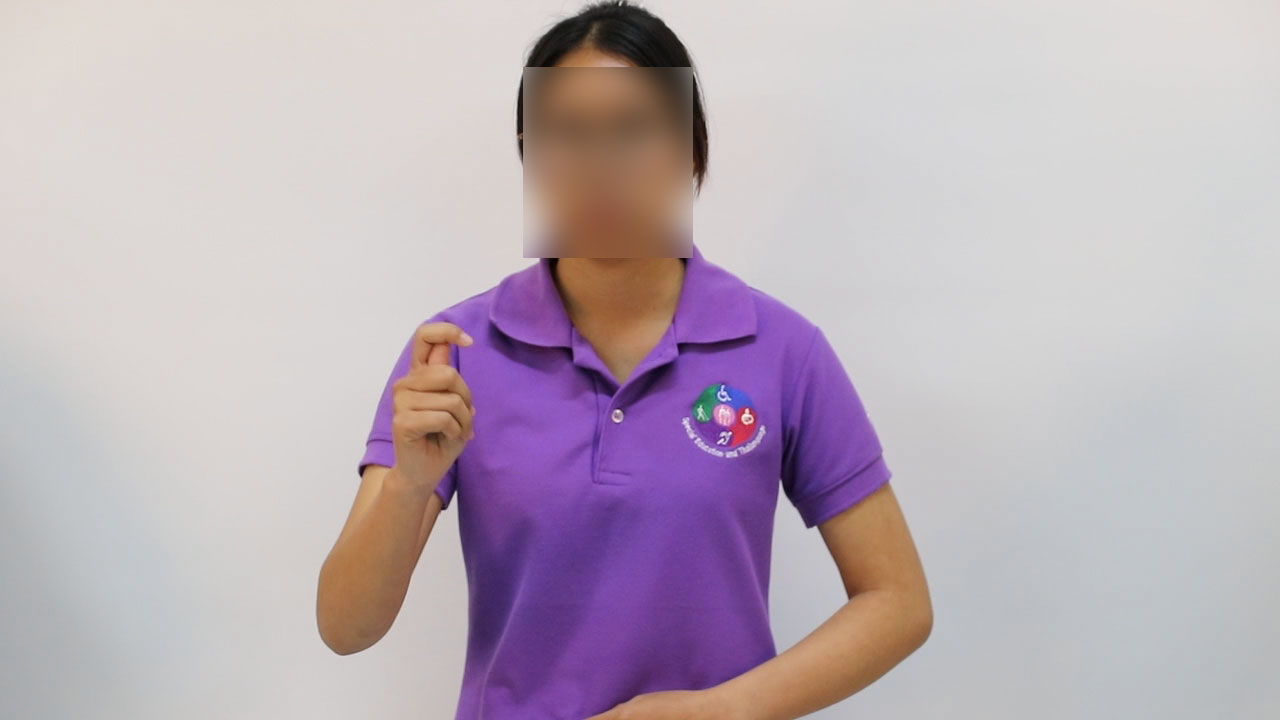or: (366, 318, 486, 498)
